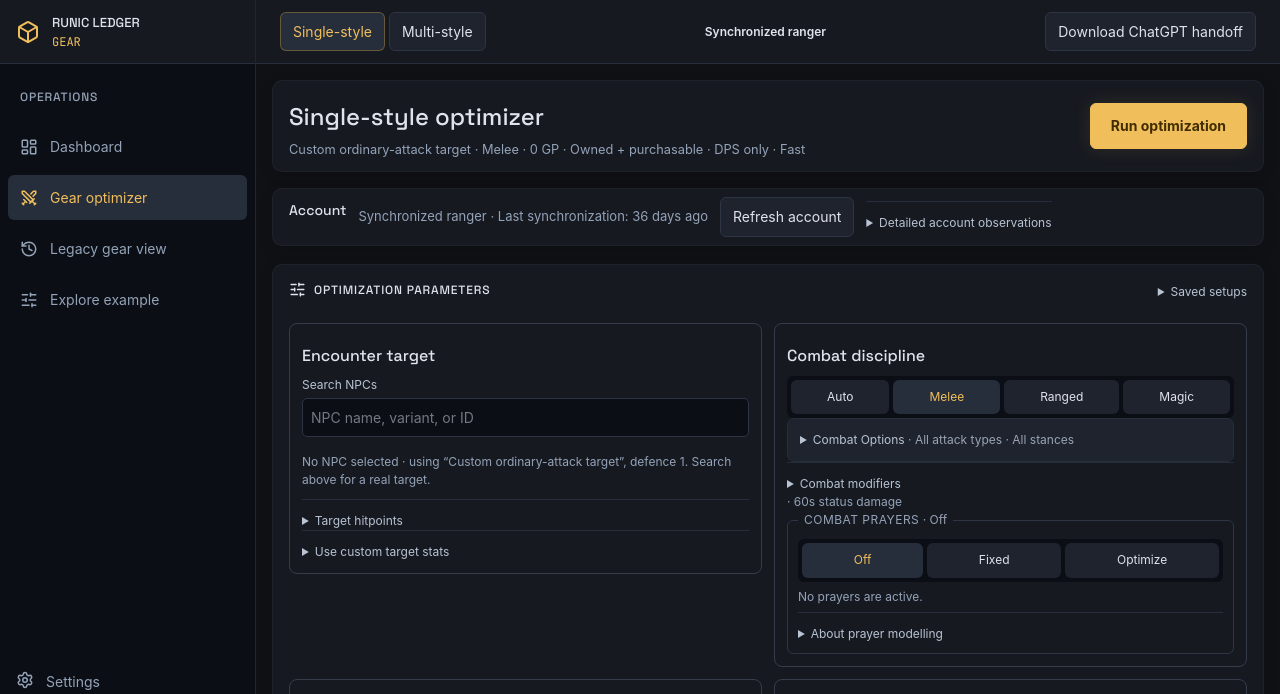
it: exposes the equipment grid and discipline picker as labelled groups
This screenshot has width=1280, height=694.
Expected: the element named "Configuration 1 discipline" is shown, [787,376,1234,418]
Click the button "Run optimization".
click(1168, 126)  # box [1090,103,1247,149]
(page scrolled)
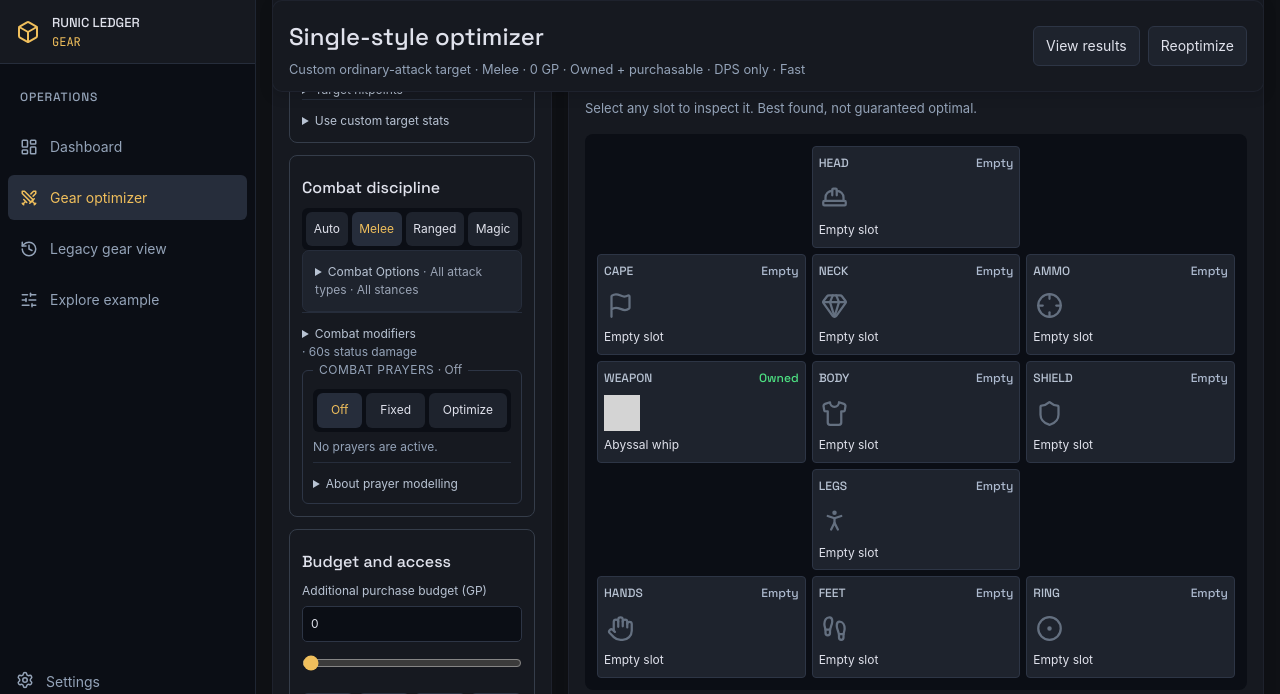
Expected: the element named "equipment slots" is shown, [585,134,1247,690]
